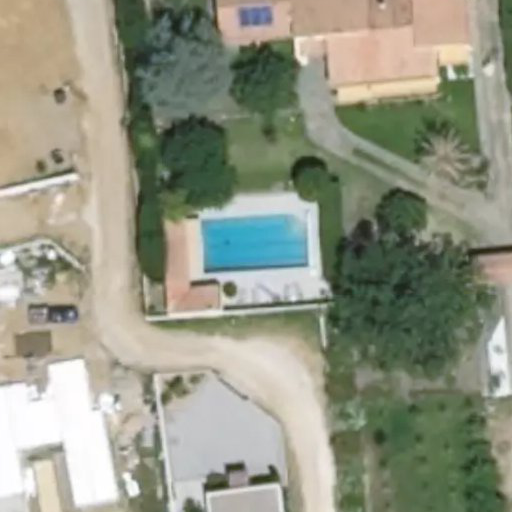pool: (200, 219, 311, 264)
